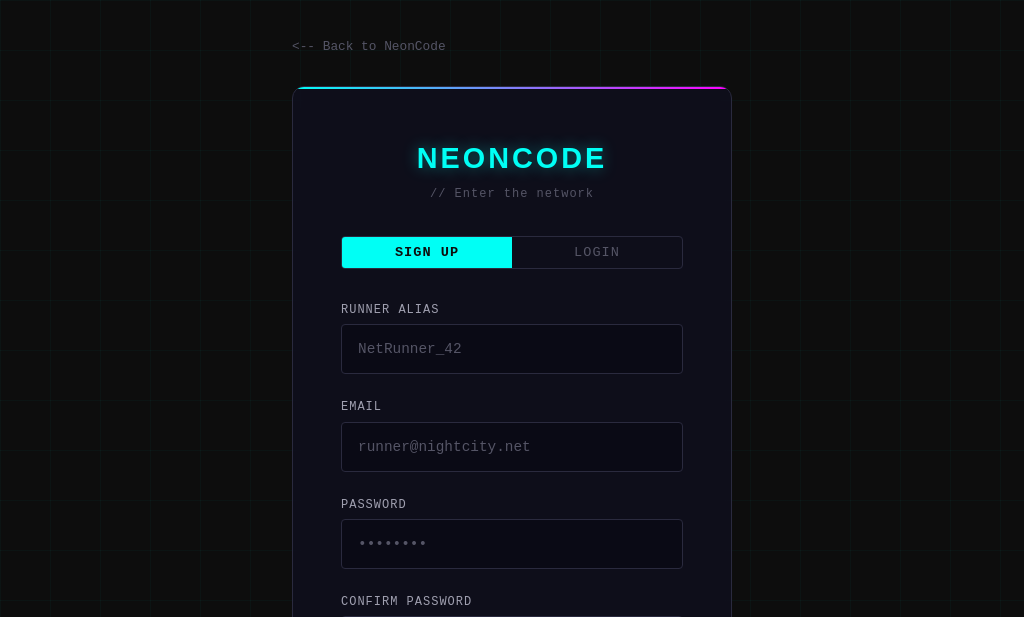
Test case: RegistrationPage › shows password strength indicator
The image size is (1024, 617).
In the password field labelled "Password": (512, 544) left=341, top=519, right=683, bottom=569, type "Str0ng!"
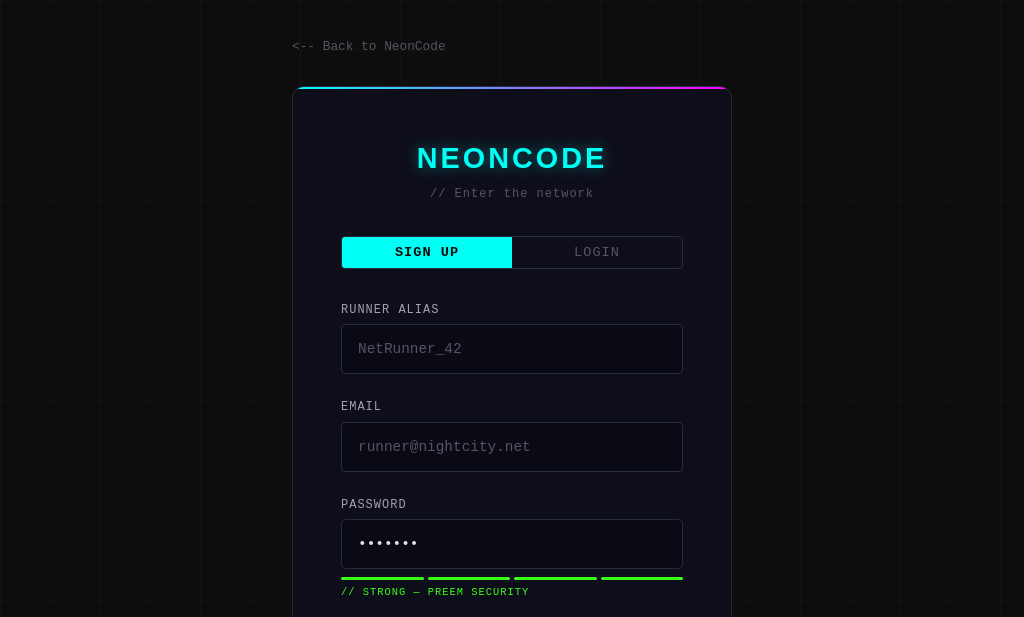
Now the text "// Strong — preem security" is shown, box left=341, top=586, right=529, bottom=598
